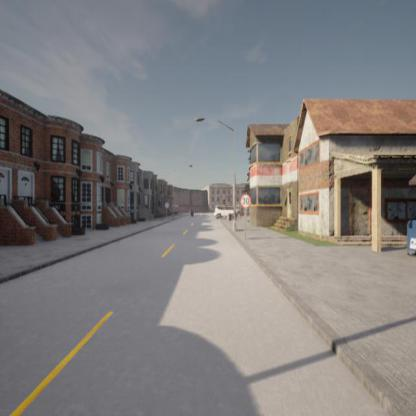traffic_sign_30: (241, 194, 250, 207)
